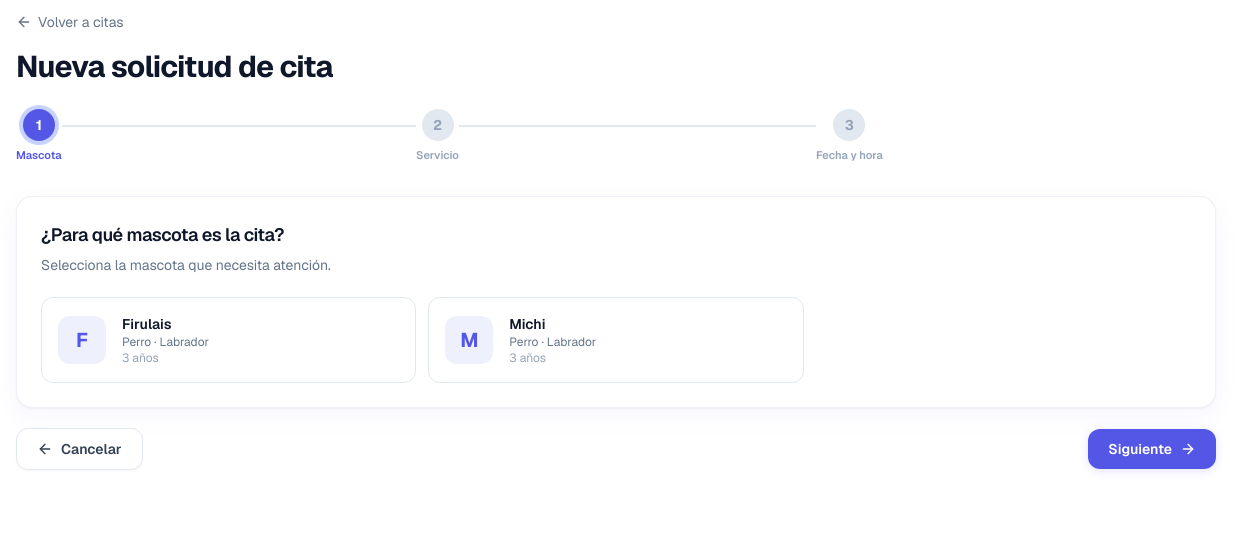
Test: NuevaCitaPage — paso 1: mascota › no permite avanzar sin seleccionar mascota cuando hay varias
The width and height of the screenshot is (1235, 552).
Expected: the text "Firulais" is shown, top-left (122, 314), bottom-right (171, 332)
Click the button "Siguiente": (1152, 448) top-left (1088, 428), bottom-right (1216, 468)
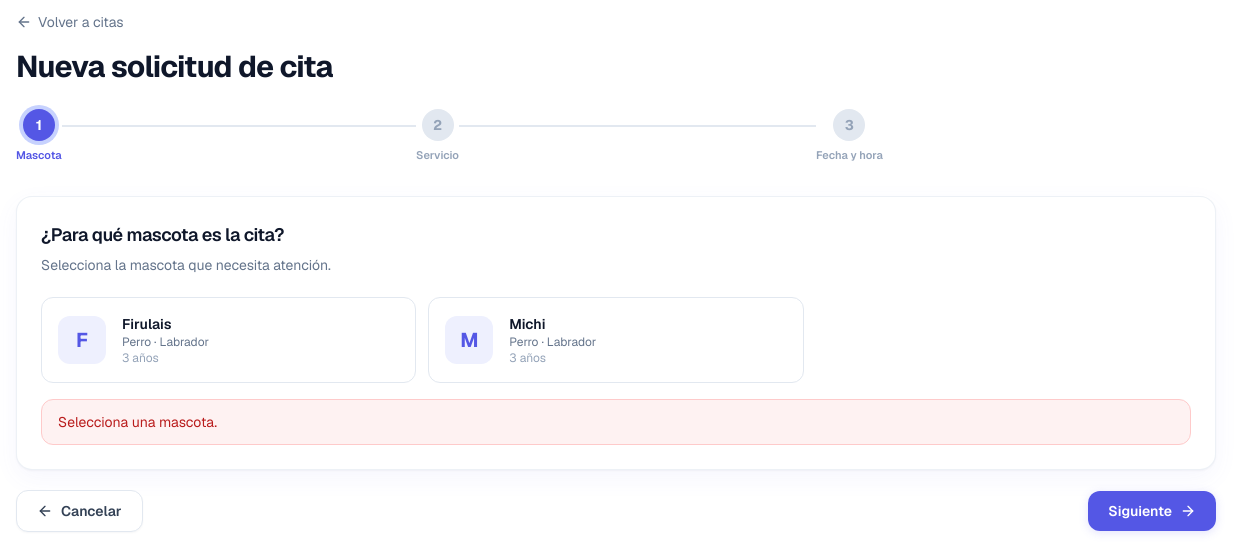
Expected: the text "Selecciona una mascota." is shown, top-left (41, 398), bottom-right (1191, 444)
